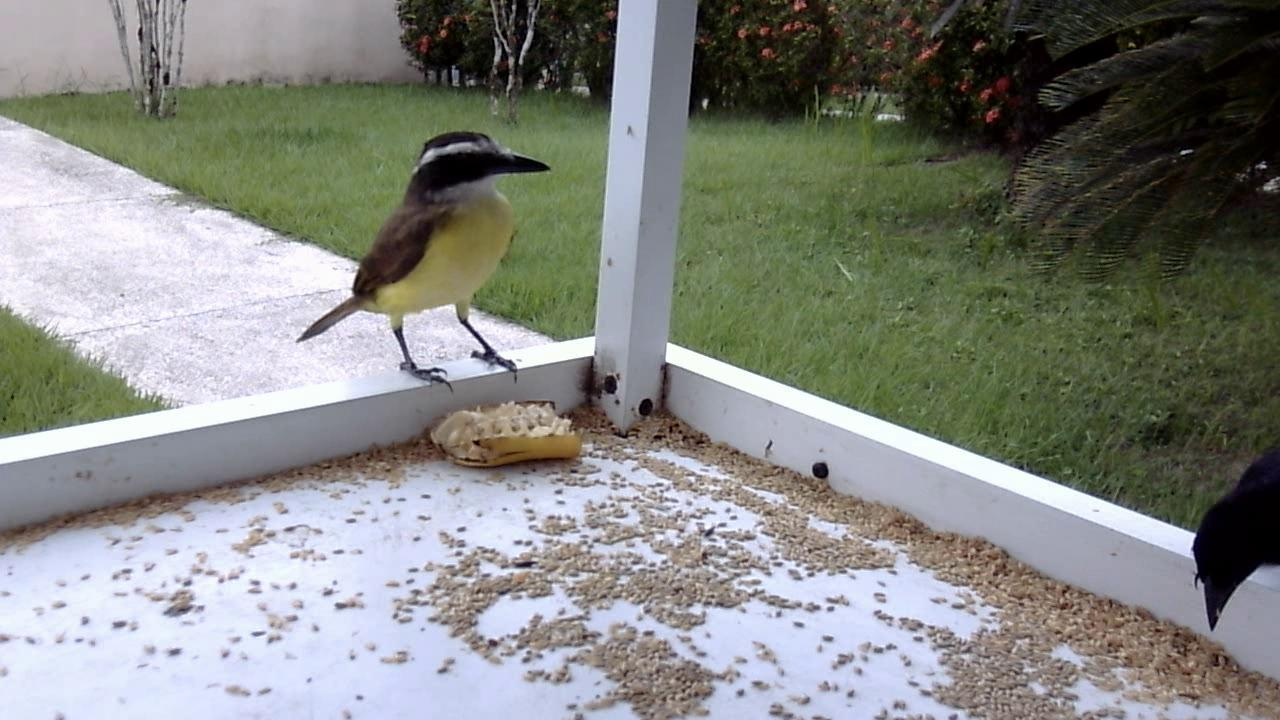bem_te_vi: (292, 124, 555, 398)
chupim: (1172, 432, 1277, 641)
